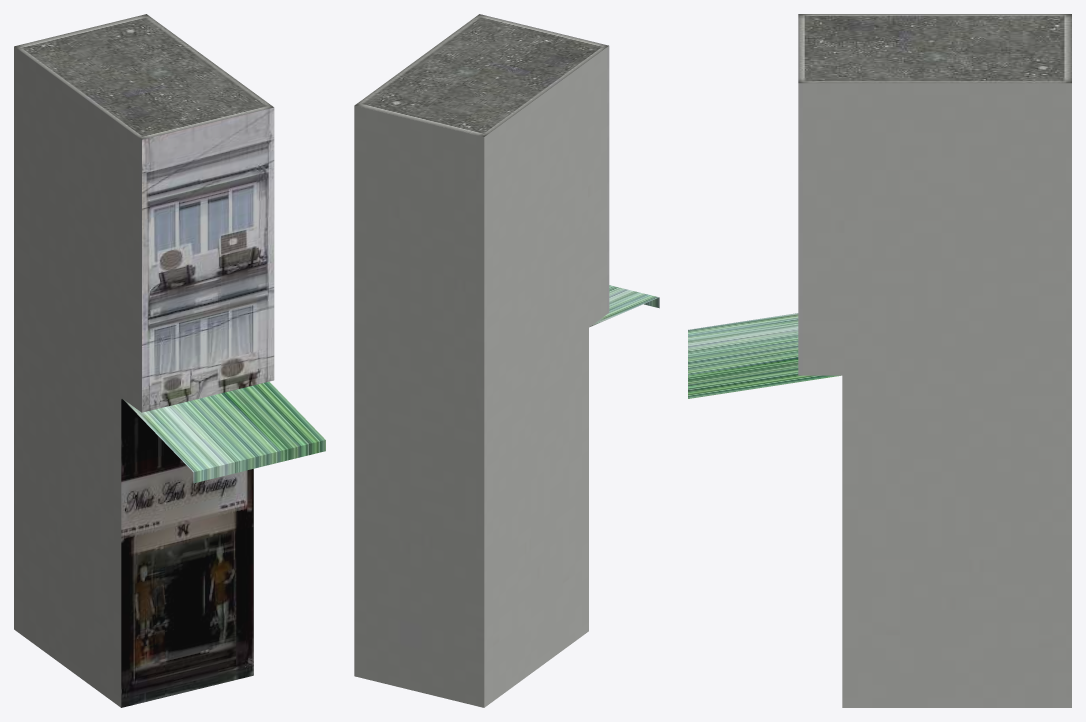
3 views of the same model, side by side, from view 1: azimuth 30°, elevation 25°; view 2: azimuth 150°, elevation 25°; view 3: azimuth 270°, elevation 25° (orthographic). The views are drawn at different scales.
Parts seen in each view (by area): view 1: HN921___Nhat_Anh_Boutique; view 2: HN921___Nhat_Anh_Boutique; view 3: HN921___Nhat_Anh_Boutique.
Part boxes in pixels (box(x1,y1,x2,y2)): HN921___Nhat_Anh_Boutique: box(14, 14, 325, 707); HN921___Nhat_Anh_Boutique: box(354, 14, 659, 707); HN921___Nhat_Anh_Boutique: box(688, 14, 1071, 707).
Size of the model in its own units: 2.5 by 10.51 by 5.85.
1 material, 1 textured.
